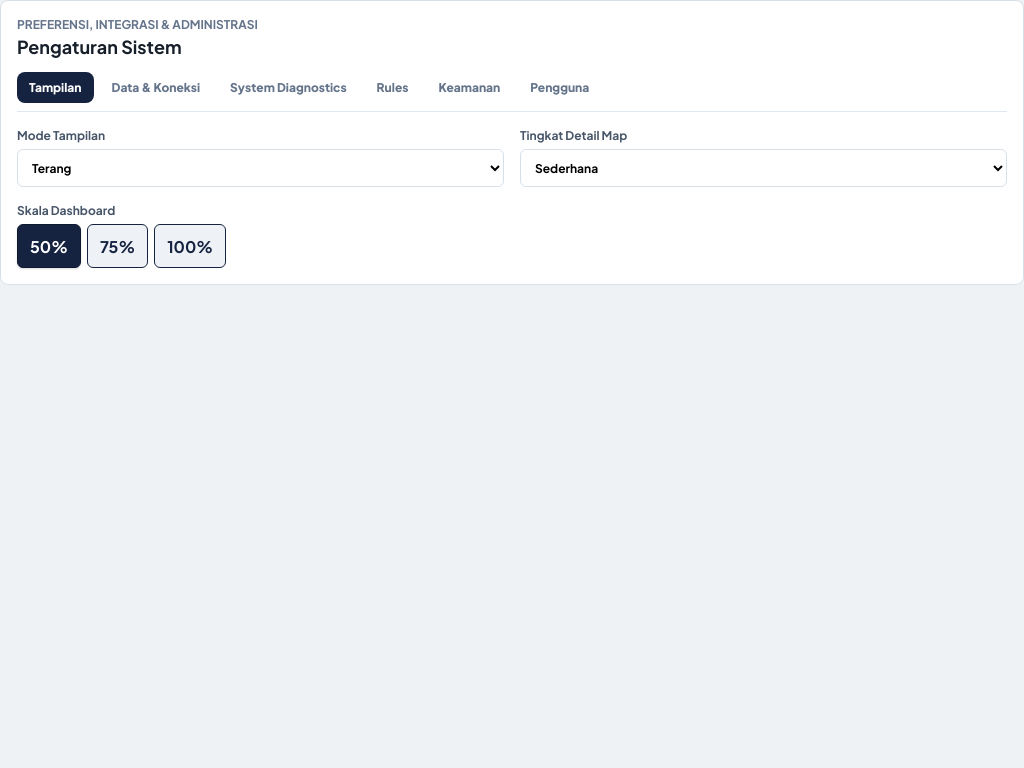
Test case: SettingsPanel › labels user creation as an admin-only area
The width and height of the screenshot is (1024, 768).
Click the tab "Pengguna": (560, 88) top-left (518, 72), bottom-right (601, 103)
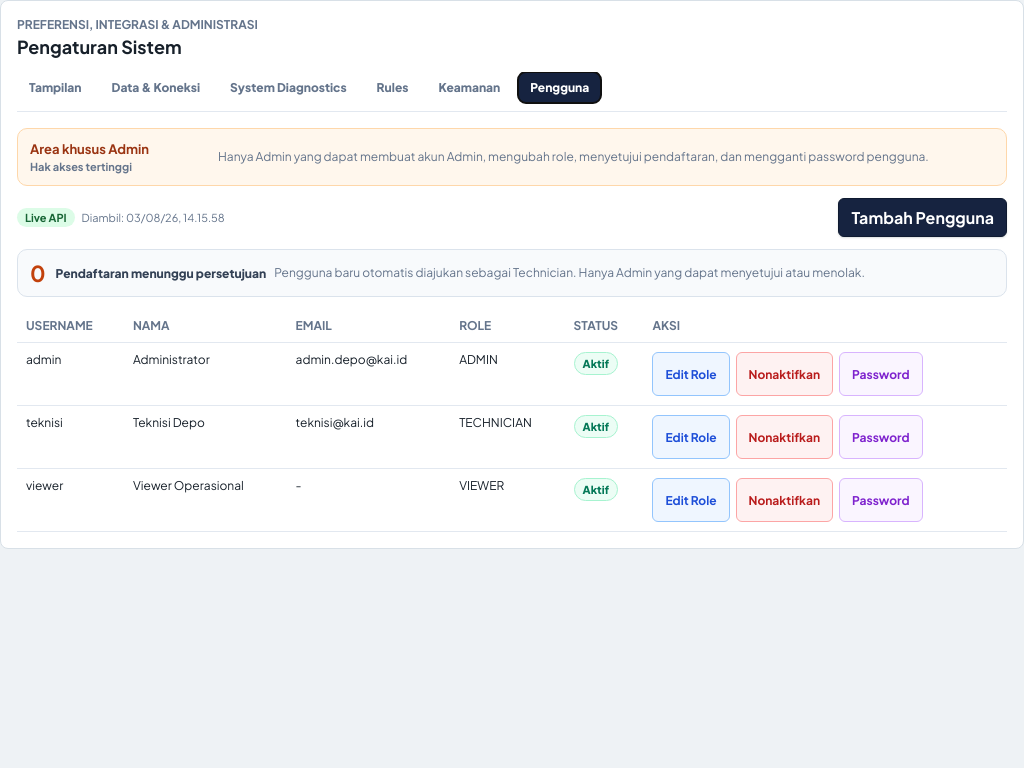
Check: the text "Area khusus Admin" is shown, box top-left (30, 141), bottom-right (149, 157)
Check: the text "Hanya Admin yang dapat membuat akun Admin" is shown, box top-left (218, 149), bottom-right (929, 164)
